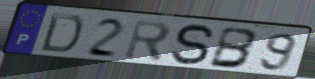2: (81, 18, 129, 58)
9: (258, 32, 300, 72)
B: (207, 25, 261, 70)
D: (37, 12, 85, 55)
R: (122, 18, 173, 64)
S: (169, 23, 217, 67)
